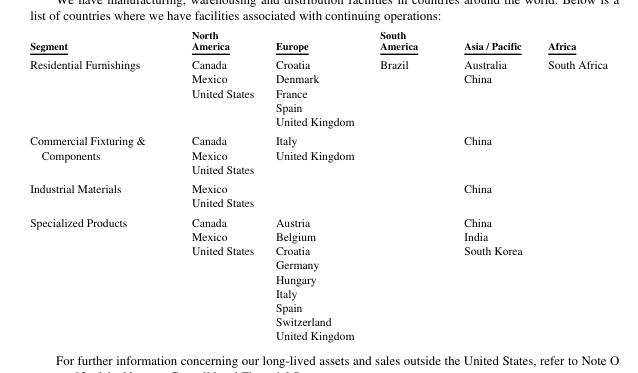table: (29, 28, 606, 341)
table column: (29, 28, 167, 341), (264, 28, 366, 341), (167, 28, 264, 341), (440, 28, 534, 341), (366, 28, 440, 341), (534, 28, 606, 341)
table column header: (29, 28, 606, 54)
table row: (29, 212, 606, 341), (29, 54, 606, 130), (29, 130, 606, 178), (29, 178, 606, 212), (29, 28, 606, 54)
